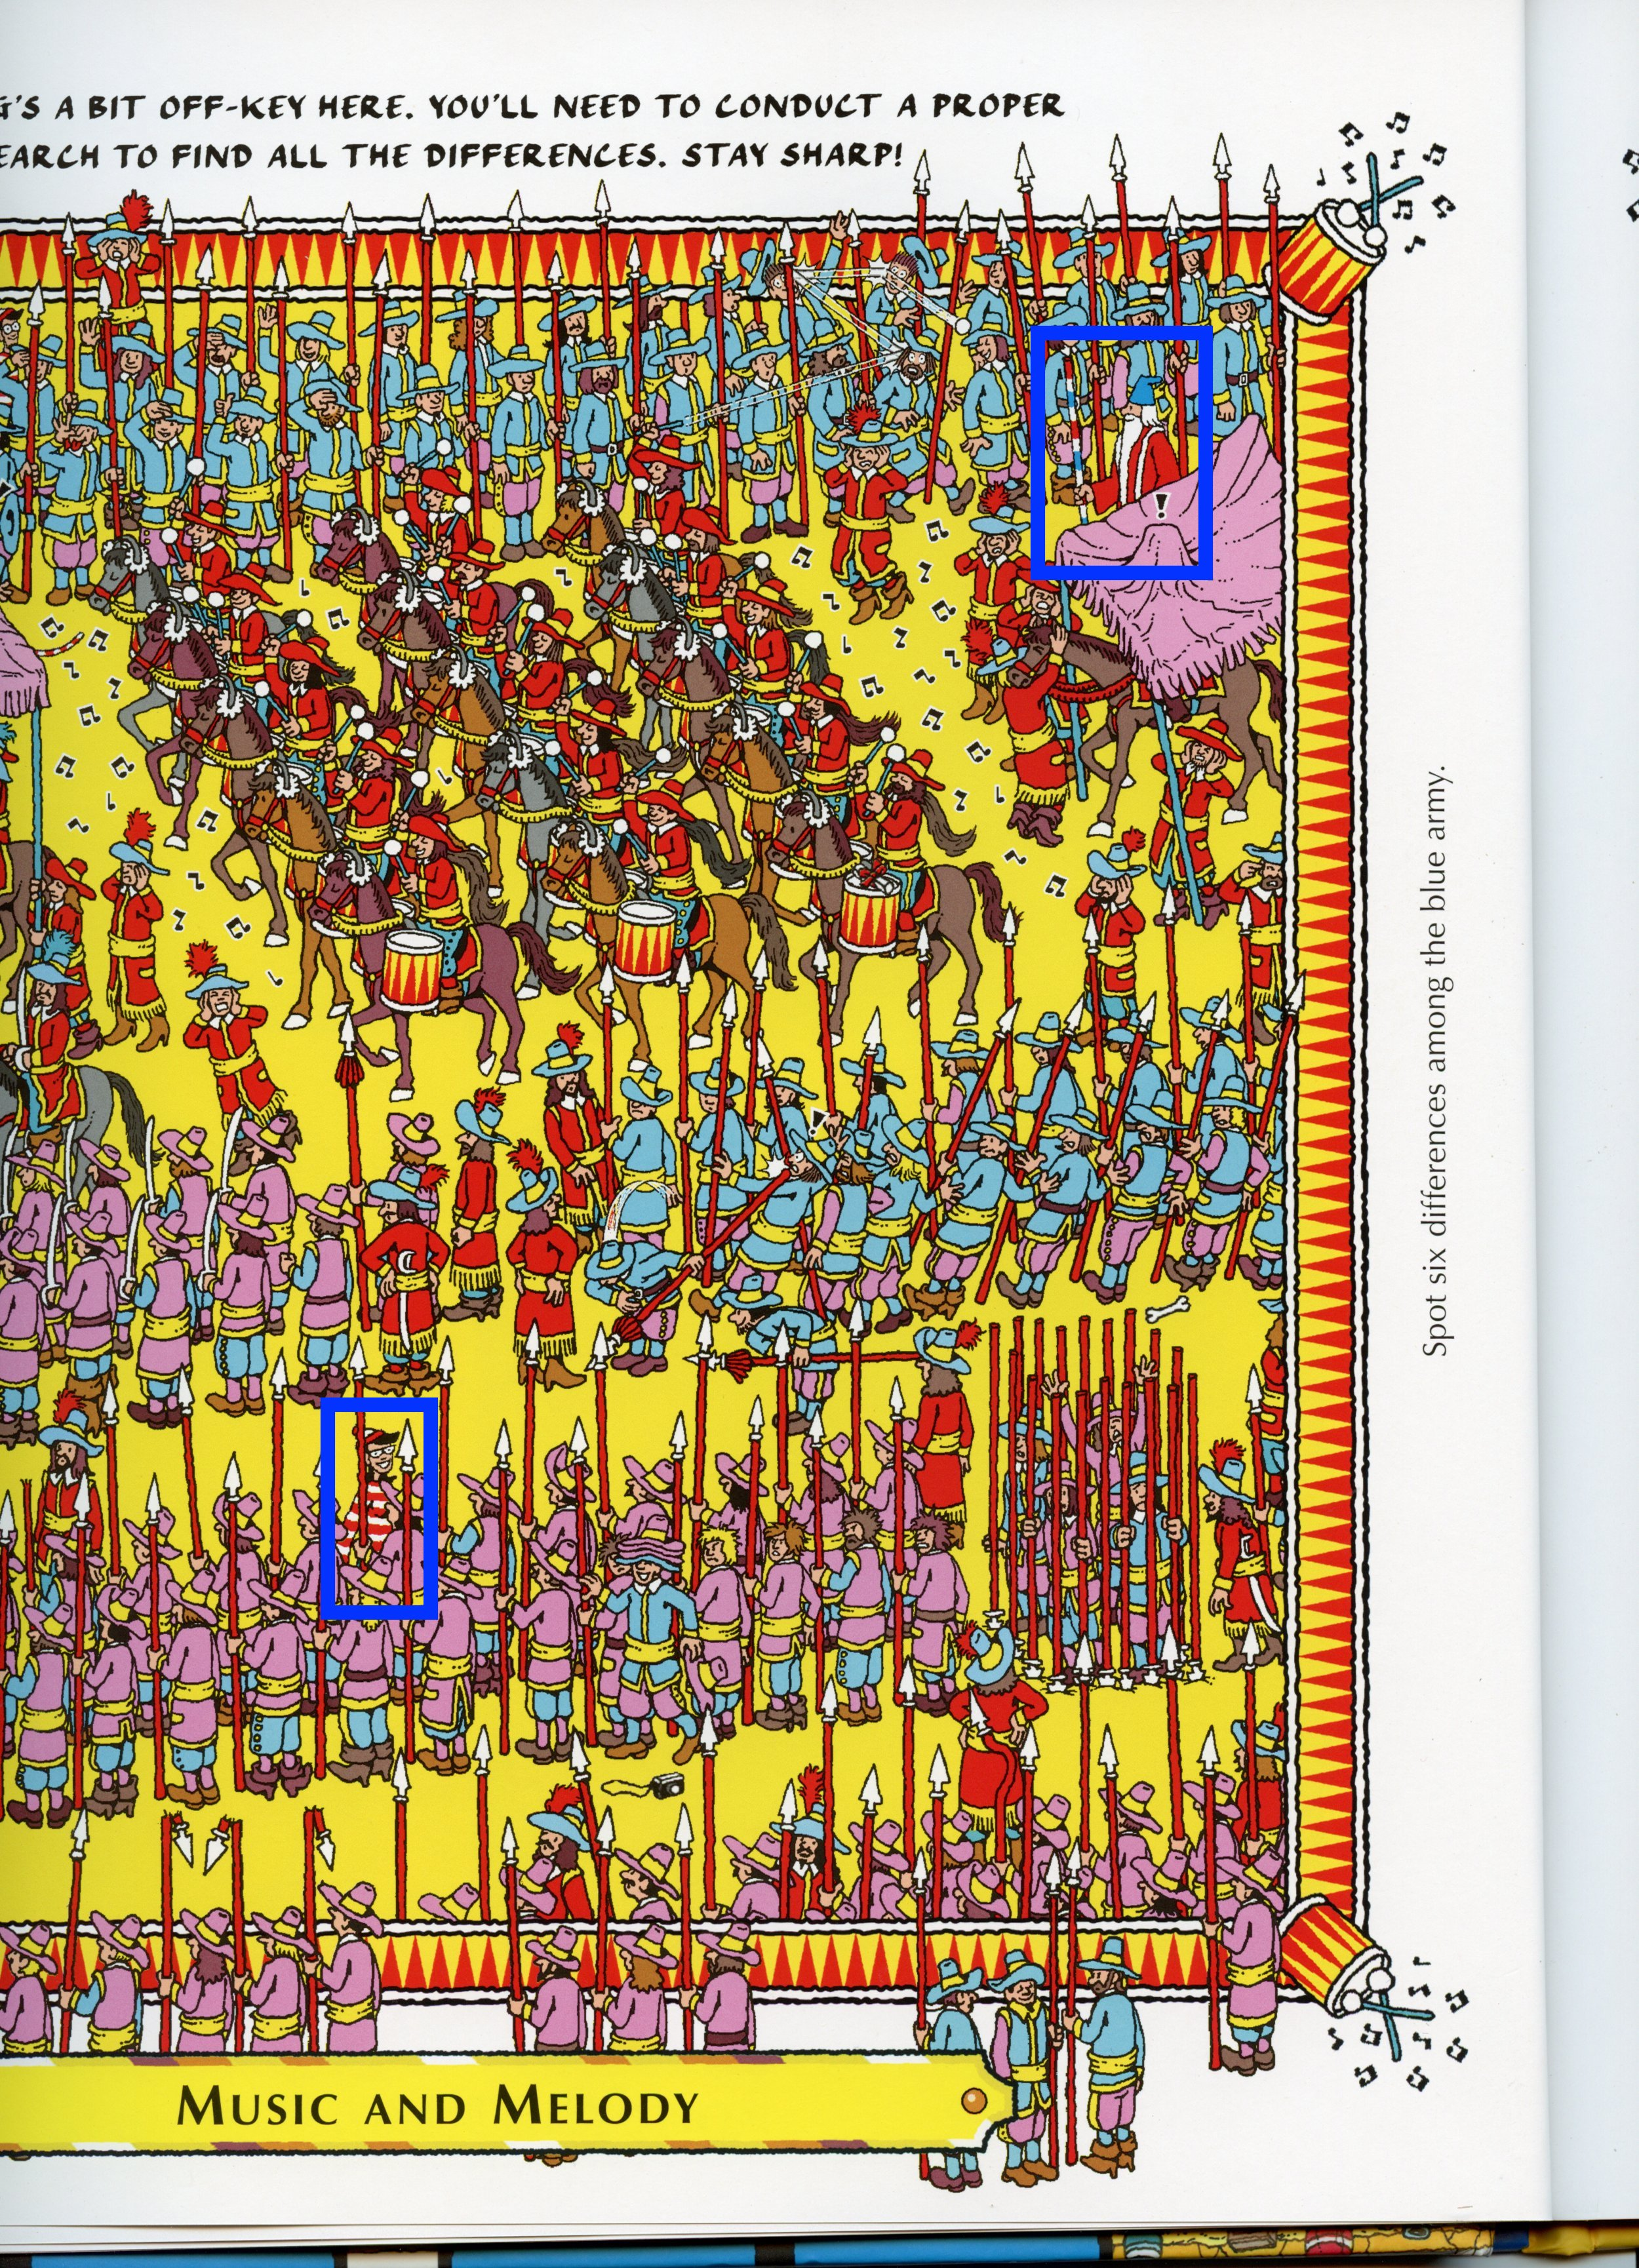wenda: (315, 1400, 442, 1616)
white beard: (1033, 324, 1232, 585)
